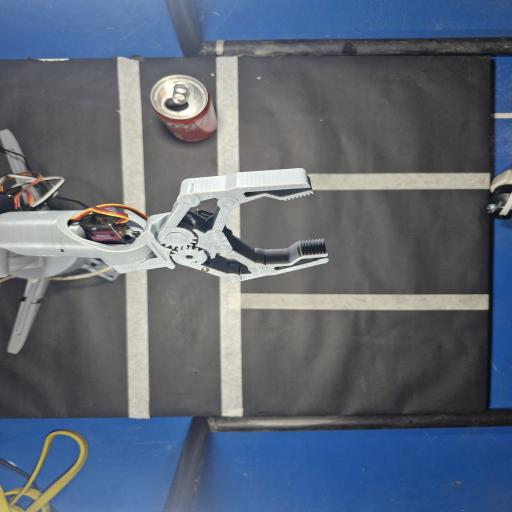lata: (150, 75, 217, 142)
